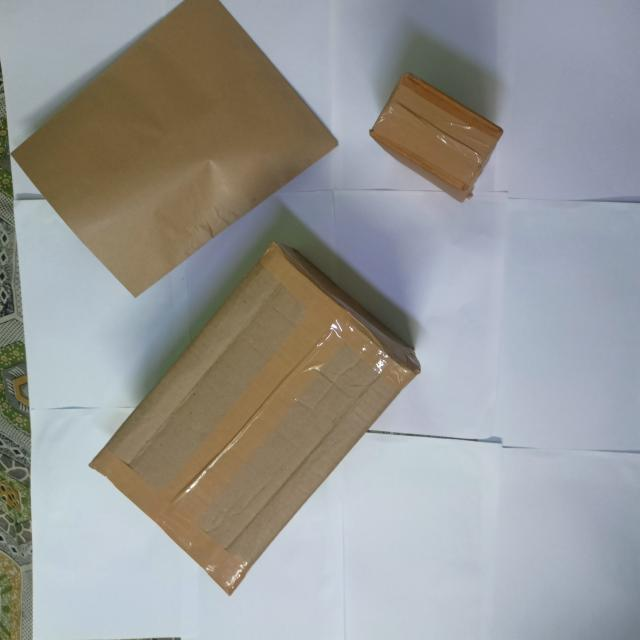box: (91, 244, 422, 599), (12, 1, 341, 300), (371, 75, 504, 205)
